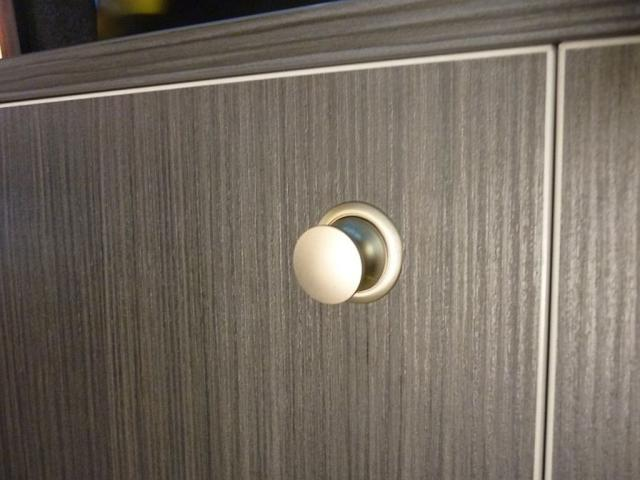Door-handle: (290, 199, 403, 307)
